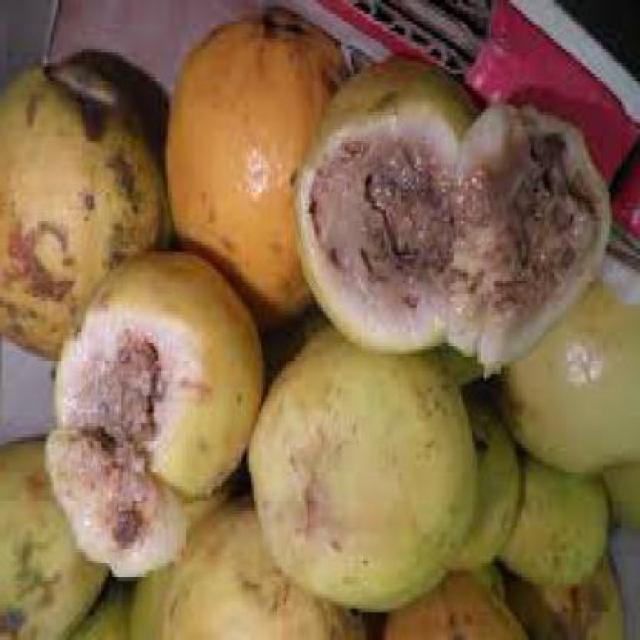BIODEGRADABLE: (249, 330, 485, 616), (167, 11, 351, 343), (298, 59, 484, 361), (55, 251, 268, 507), (2, 60, 175, 371), (454, 98, 617, 384), (134, 500, 374, 638), (497, 262, 638, 478), (46, 430, 194, 584), (2, 440, 112, 638), (501, 466, 612, 592), (449, 395, 523, 574), (381, 566, 534, 639), (503, 556, 626, 639), (70, 581, 144, 639), (608, 464, 638, 538)
CARDBOARD: (468, 3, 638, 109), (274, 3, 498, 66), (61, 4, 184, 59), (2, 342, 56, 444), (612, 66, 638, 277)
